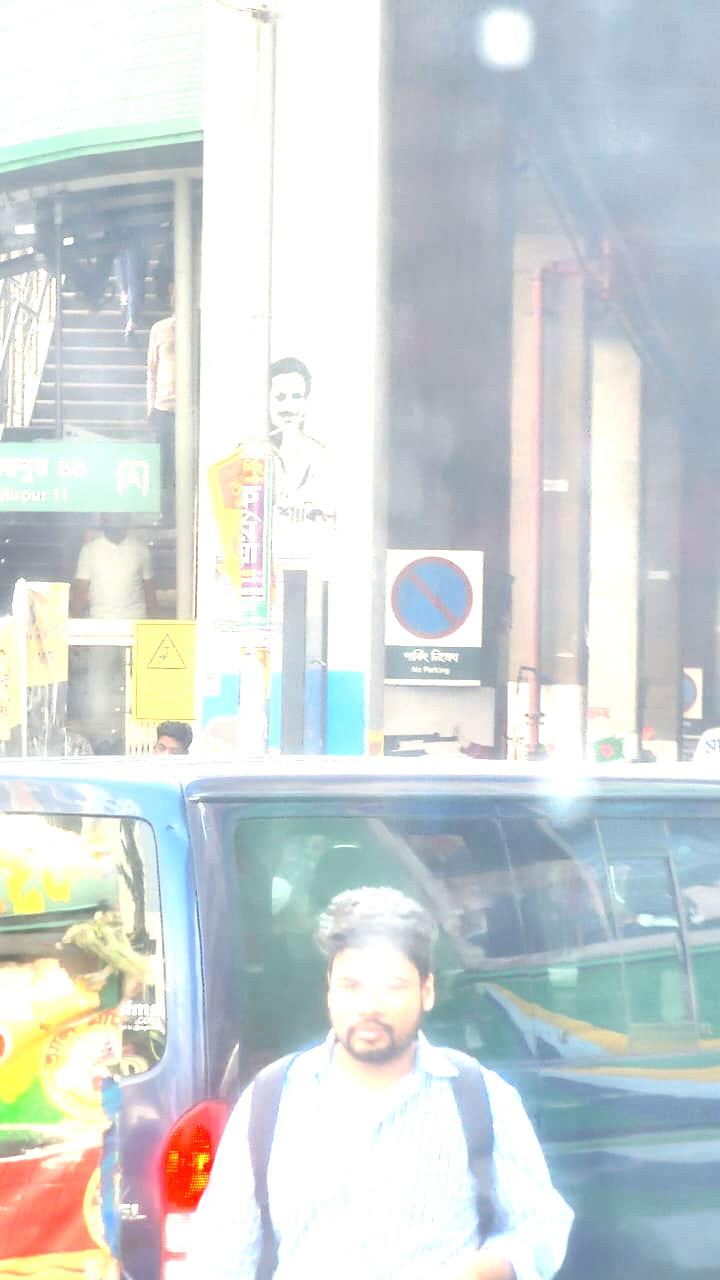No Parking: (338, 512, 534, 716)
